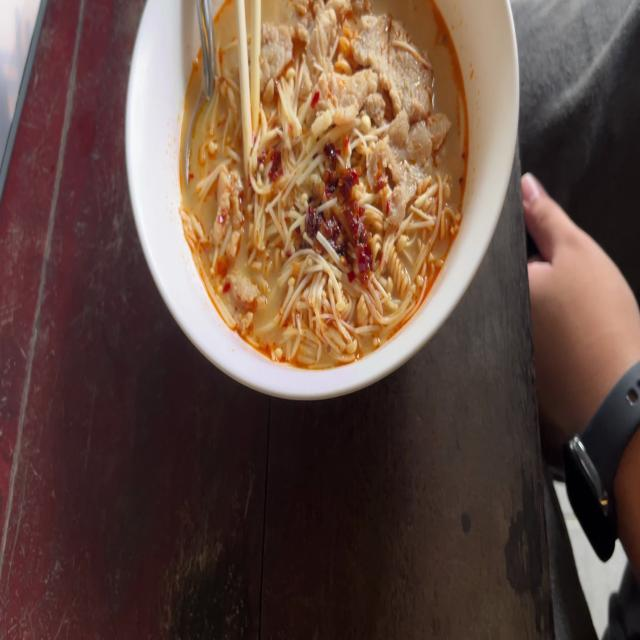noodle: (175, 0, 475, 375)
